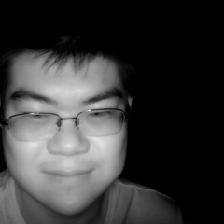happy: (4, 32, 139, 214)
